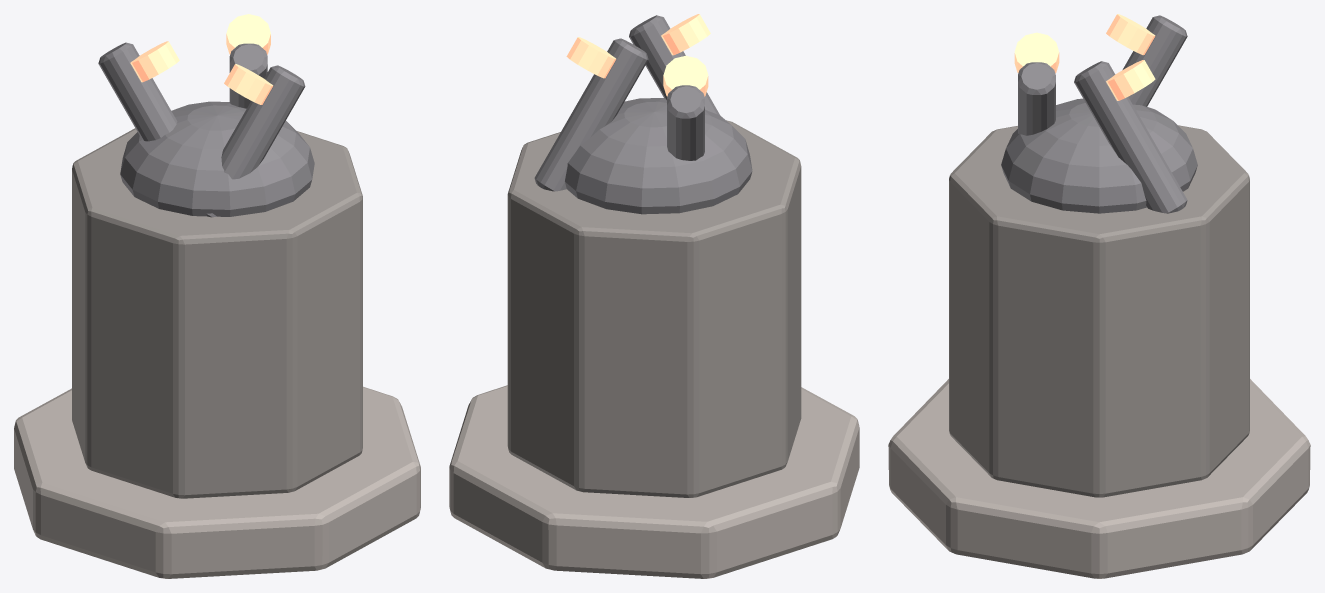
File: interceptor_tower.glb
3 renders of one model, left to right at view 1: azimuth 30°, elevation 25°; view 2: azimuth 150°, elevation 25°; view 3: azimuth 270°, elevation 25°, orthographic.
Parts seen in each view (by area): view 1: IntBody, IntBase, IntDome, IntBarrel_2, IntBarrel_1, IntTip_0, IntBarrel_0, IntTip_1, IntTip_2; view 2: IntBody, IntBase, IntDome, IntBarrel_0, IntBarrel_1, IntBarrel_2, IntTip_1, IntTip_0, IntTip_2; view 3: IntBody, IntBase, IntDome, IntBarrel_0, IntBarrel_2, IntBarrel_1, IntTip_2, IntTip_1, IntTip_0.
Part boxes in pixels (x1,y1,x2,y2): IntBody: (72,128,362,498); IntBase: (14,386,420,578); IntDome: (120,101,314,216); IntBarrel_2: (206,65,305,217); IntBarrel_1: (98,42,177,141); IntTip_0: (226,14,270,54); IntBarrel_0: (229,43,267,108); IntTip_1: (130,41,179,82); IntTip_2: (224,64,273,104); IntBody: (507,120,801,497); IntBase: (449,385,859,578); IntDome: (565,98,752,214); IntBarrel_0: (534,38,648,191); IntBarrel_1: (667,85,704,160); IntBarrel_2: (629,15,719,114); IntTip_1: (663,55,708,96); IntTip_0: (566,37,616,78); IntTip_2: (661,14,710,55); IntBody: (949,125,1249,497); IntBase: (888,379,1310,578); IntDome: (1001,98,1197,213); IntBarrel_0: (1074,61,1187,213); IntBarrel_2: (1018,62,1055,135); IntBarrel_1: (1122,15,1187,106); IntTip_2: (1014,32,1059,73); IntTip_1: (1106,14,1155,55); IntTip_0: (1106,60,1155,100).
Size of the model in its own units: 1.88 by 2.25 by 1.89.
